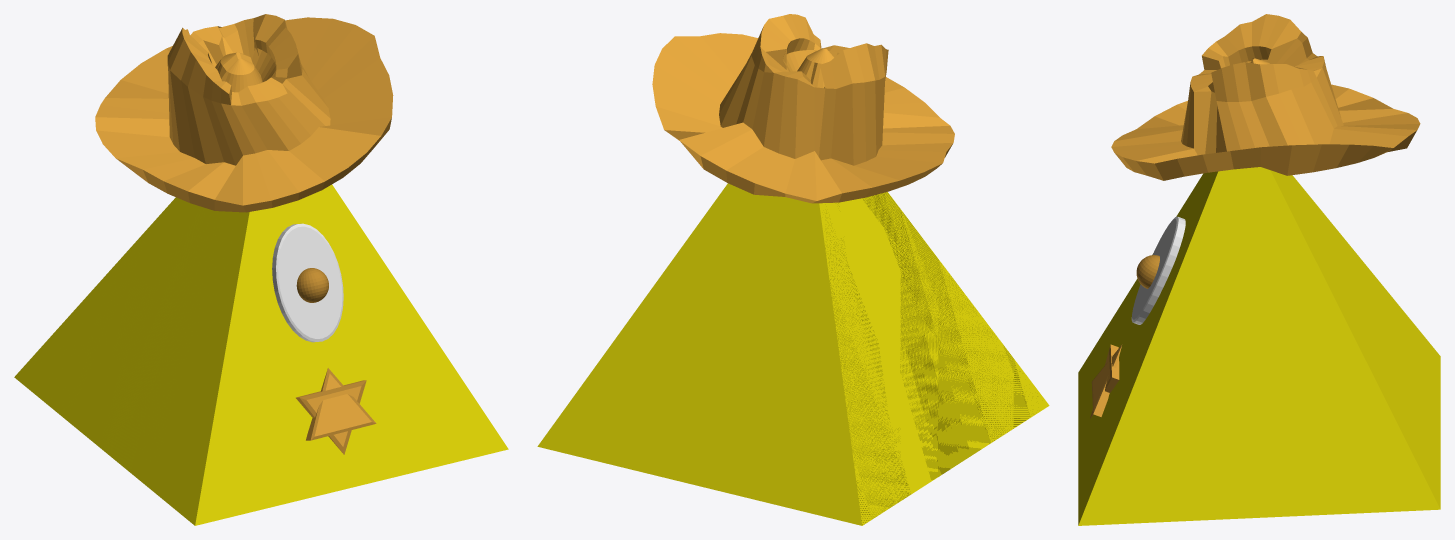
File: sherifPyramid.glb
The picture shows the model from 3 angles, left to right: view 1: azimuth 30°, elevation 25°; view 2: azimuth 150°, elevation 25°; view 3: azimuth 270°, elevation 25°; orthographic projection. The views are drawn at different scales.
Visible parts, largest first — view 1: Cube; view 2: Cube; view 3: Cube.
Part boxes in pixels (<box>): Cube: <box>14,14,508,525</box>; Cube: <box>537,14,1049,525</box>; Cube: <box>1078,14,1440,525</box>.
Bounding box in the file's own units: 2 × 2.43 × 2.
